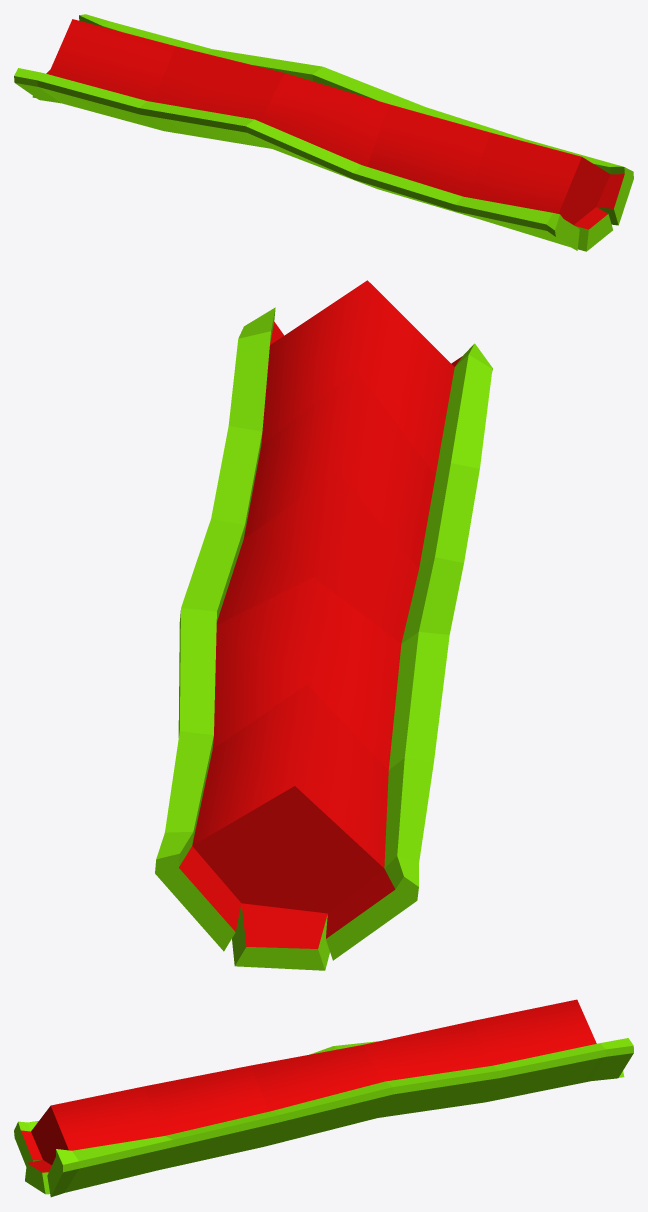
File: holzscheitdrittel.fbx
The picture shows the model from 3 angles, top to bottom: view 1: azimuth 30°, elevation 25°; view 2: azimuth 150°, elevation 25°; view 3: azimuth 270°, elevation 25°; orthographic projection. The views are drawn at different scales.
Parts seen in each view (by area): view 1: holzscheitdrittel3; view 2: holzscheitdrittel3; view 3: holzscheitdrittel3.
Part boxes in pixels (<box>): holzscheitdrittel3: <box>14,14,633,251</box>; holzscheitdrittel3: <box>155,280,492,970</box>; holzscheitdrittel3: <box>14,999,633,1197</box>.
Bounding box in the file's own units: 47.62 × 10.93 × 74.69.
